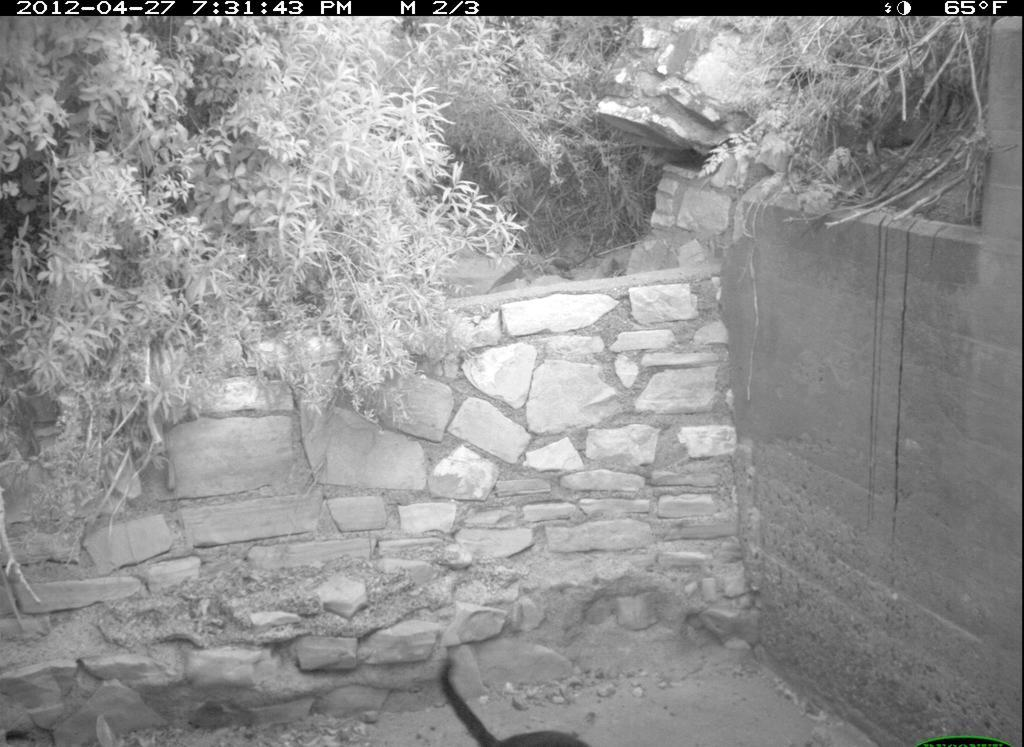cat: (430, 650, 616, 747)
